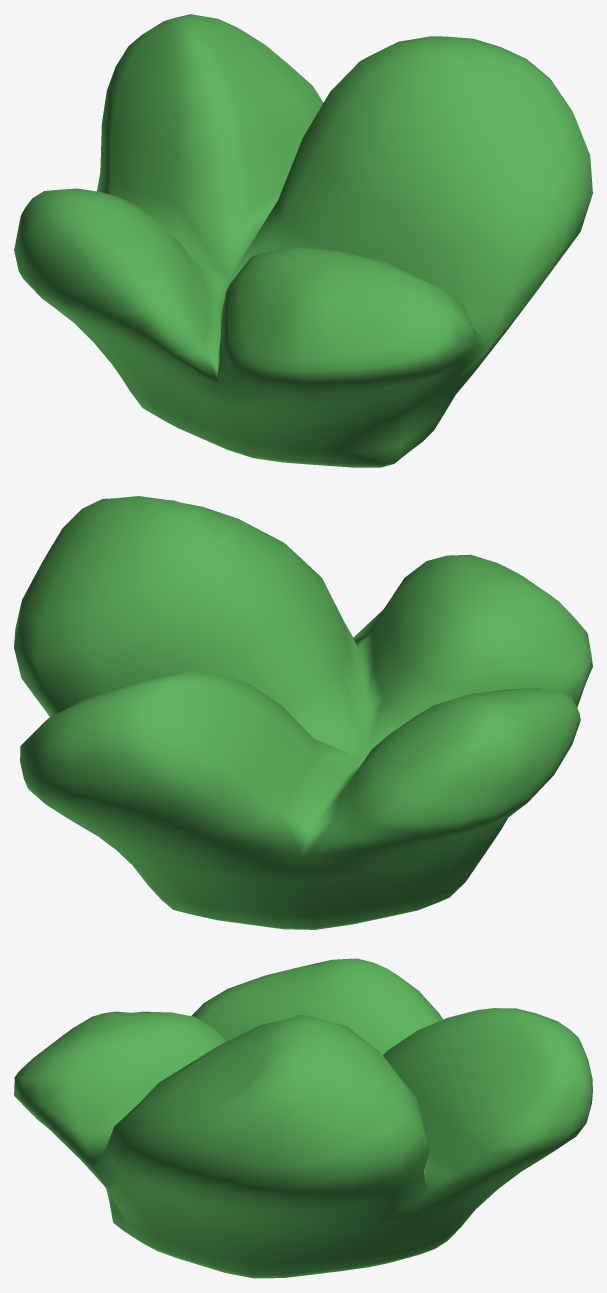
Rendered from Arbusto.fbx.
3 views of the same model, one above another, from view 1: azimuth 30°, elevation 25°; view 2: azimuth 150°, elevation 25°; view 3: azimuth 270°, elevation 25° (orthographic). The views are drawn at different scales.
Parts seen in each view (by area): view 1: pCube60; view 2: pCube60; view 3: pCube60.
Boxes of the visible parts, x1,y1,x2,y2 form: pCube60: [14, 14, 592, 467]; pCube60: [14, 496, 592, 929]; pCube60: [14, 958, 592, 1278].
Bounding box in the file's own units: 2.08 × 1.26 × 2.44.
